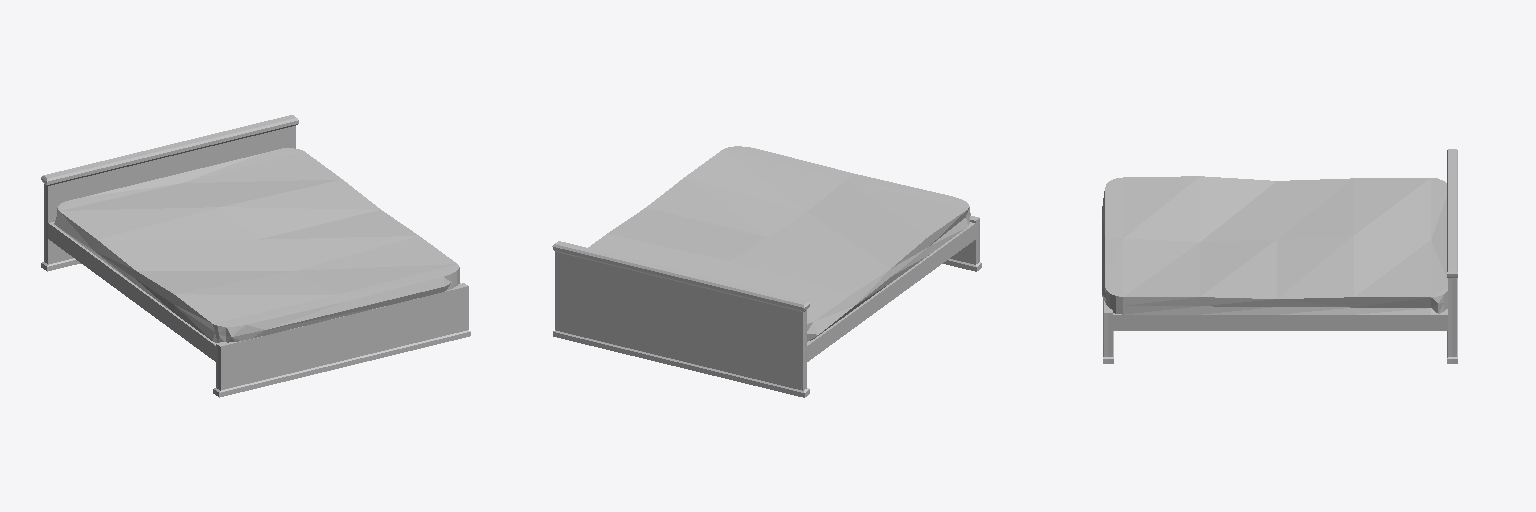
Rendered from Bed04b.obj.
3 views of the same model, side by side, from view 1: azimuth 30°, elevation 25°; view 2: azimuth 150°, elevation 25°; view 3: azimuth 270°, elevation 25° (orthographic).
Visible parts, largest first — view 1: Bed04b_LOD0_Bed02_LOD0.011; view 2: Bed04b_LOD0_Bed02_LOD0.011; view 3: Bed04b_LOD0_Bed02_LOD0.011.
Boxes of the visible parts, x1=… form: Bed04b_LOD0_Bed02_LOD0.011: x1=41, y1=115, x2=470, y2=397; Bed04b_LOD0_Bed02_LOD0.011: x1=552, y1=146, x2=981, y2=397; Bed04b_LOD0_Bed02_LOD0.011: x1=1102, y1=149, x2=1457, y2=363.
Bounding box in the file's own units: 1.75 × 0.6109 × 2.14.